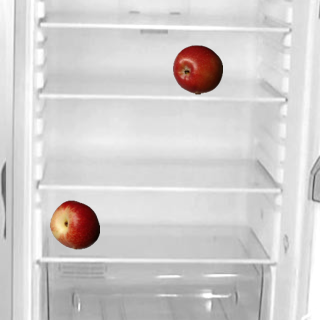Apple Braeburn: (172, 44, 222, 94)
Nectarine: (49, 199, 99, 249)
